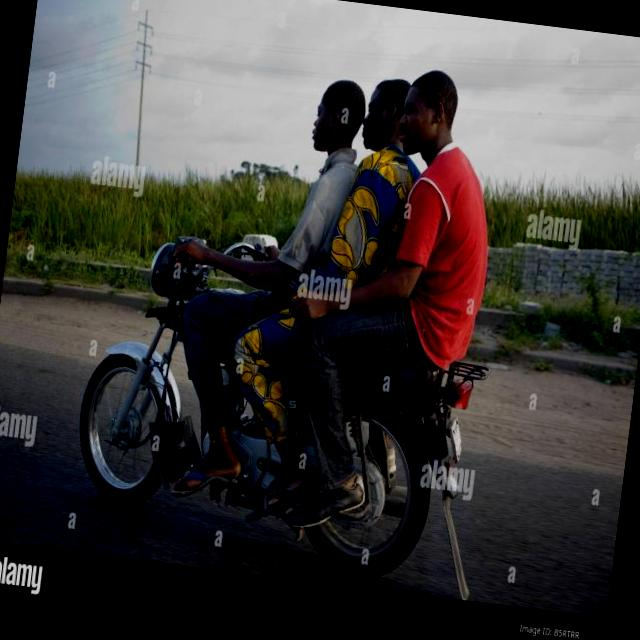motorcycle: (53, 224, 500, 590)
person: (156, 58, 366, 463), (338, 63, 520, 509), (289, 48, 426, 466)
rider_region: (49, 19, 531, 591)
